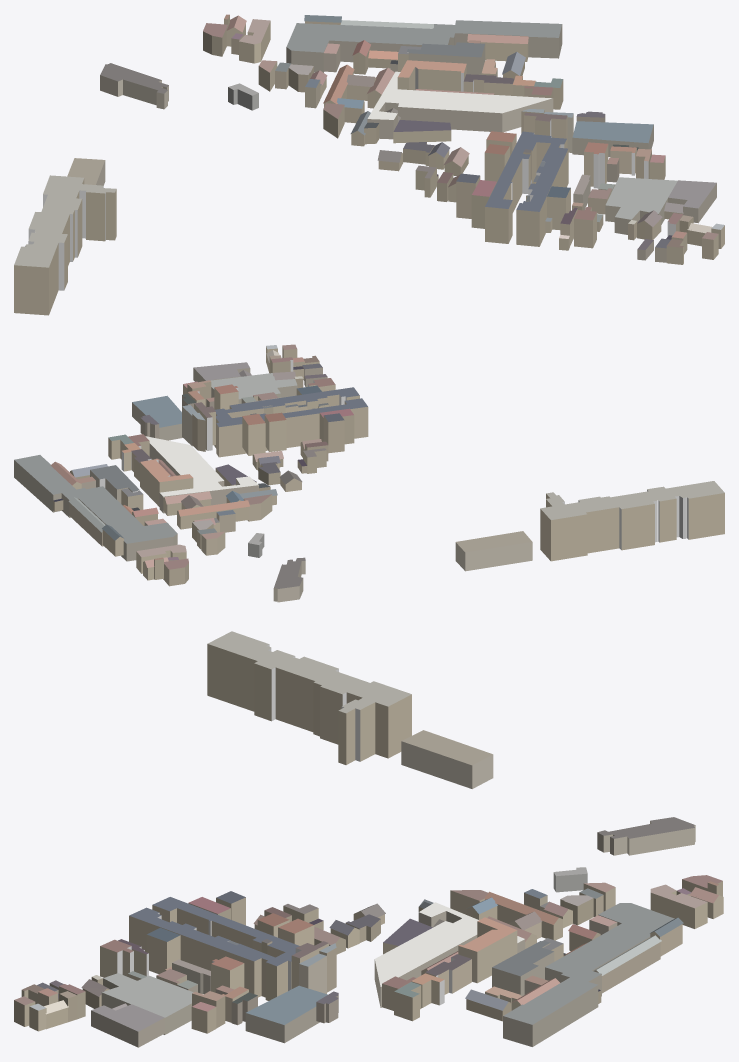
3 views of the same model, one above another, from view 1: azimuth 30°, elevation 25°; view 2: azimuth 150°, elevation 25°; view 3: azimuth 270°, elevation 25° (orthographic). The views are drawn at different scales.
Visible parts, largest first — view 1: tuile; view 2: tuile; view 3: tuile.
Part boxes in pixels (box(x1,y1,x2,y2)): tuile: box(14, 14, 724, 315); tuile: box(14, 344, 724, 602); tuile: box(14, 631, 723, 1047).
Bounding box in the file's own units: 307 × 29.23 × 254.
